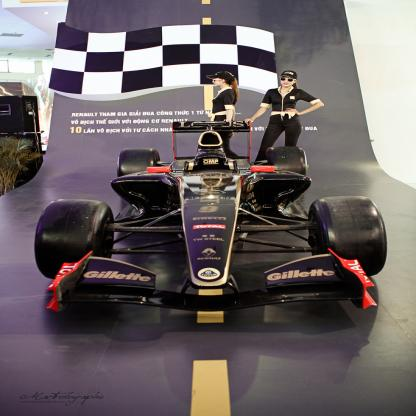Car: (35, 122, 388, 312)
